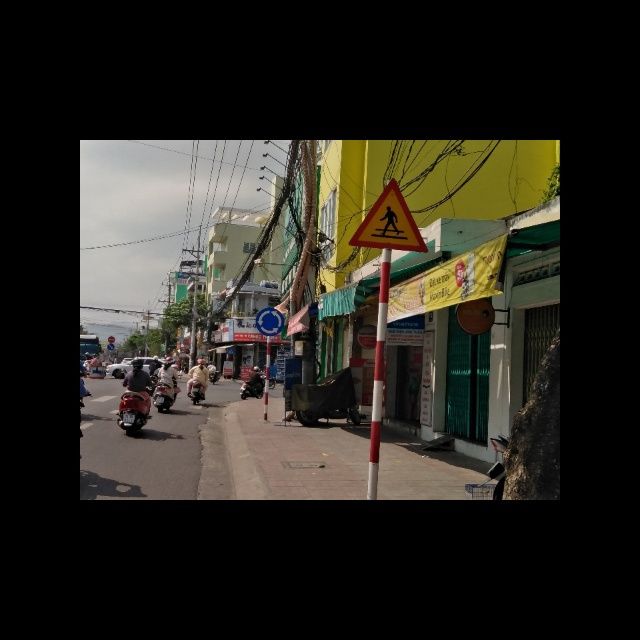Nơi giao nhau chạy theo vòng xuyến: (256, 308, 284, 335)
Đường người đi bộ sang đường: (348, 177, 431, 254)
